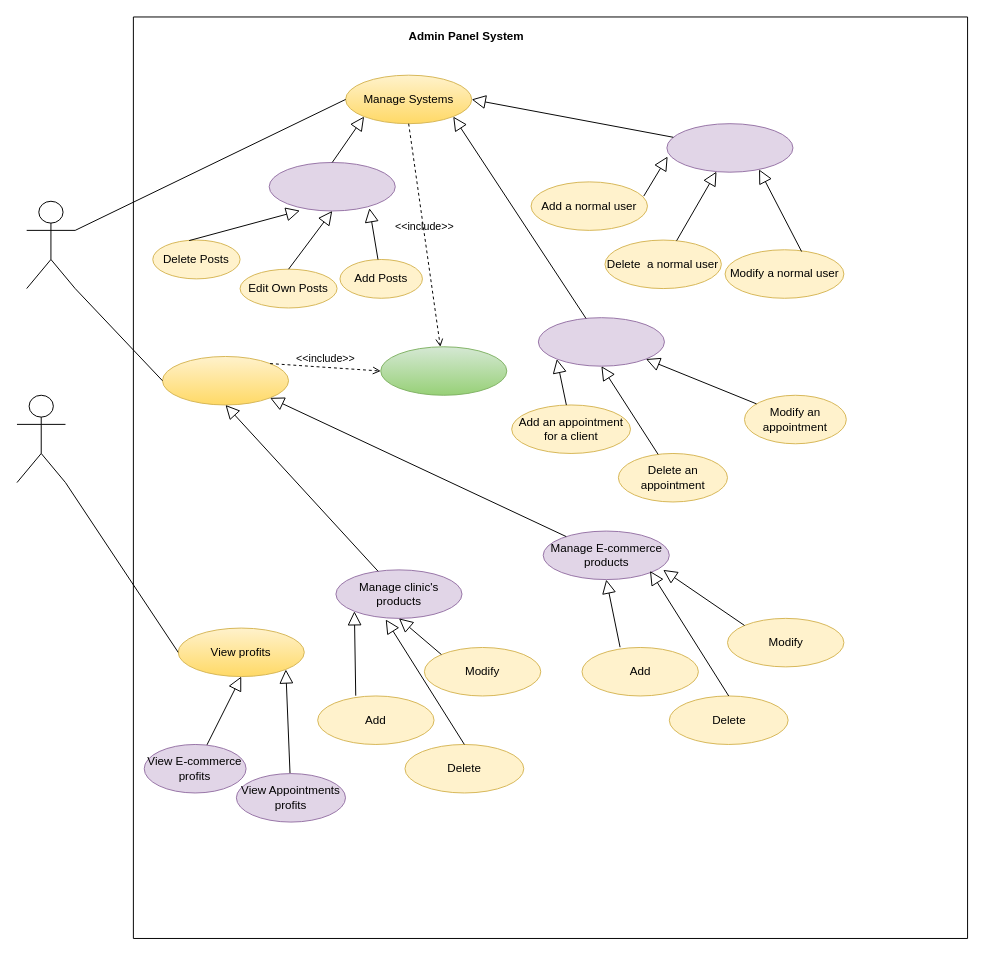
Some shapes in this 985 by 955 pixel diagram are drawn without their labels. Each missing label, with the centre of its shape:
"Admin" belongs at point 50,244.
"Manage Adoption System" belongs at point 331,186.
"Manage Appointment System" belongs at point 600,341.
"Manage Products" belongs at point 225,380.
"Manage Registration System" belongs at point 729,147.
"owner" belongs at point 40,438.
"Validate Data" belongs at point 443,370.
